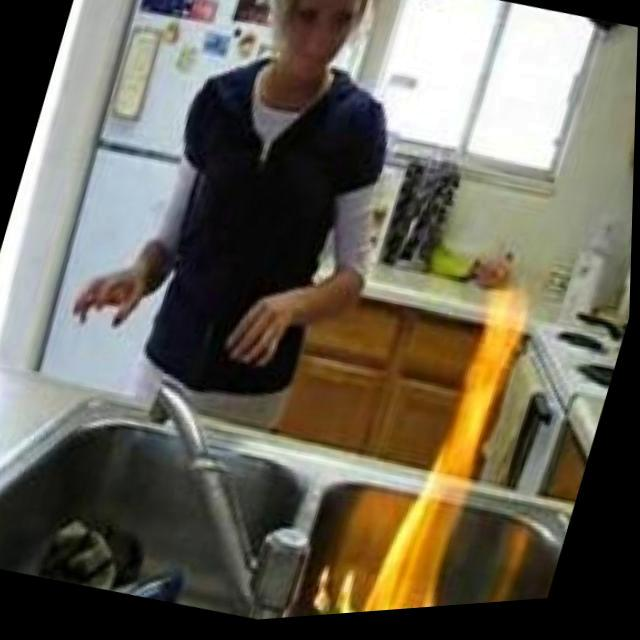fire: (355, 282, 553, 618), (309, 566, 375, 622)
